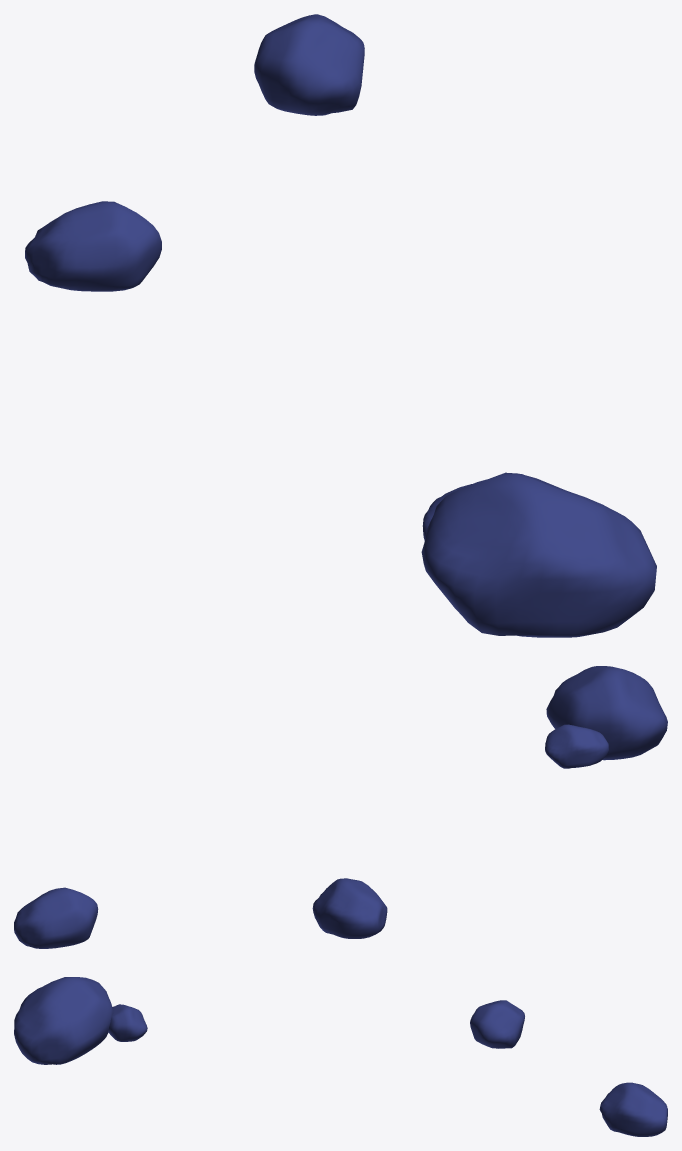
File: Rocks.fbx
3 renders of one model, top to bottom at view 1: azimuth 30°, elevation 25°; view 2: azimuth 150°, elevation 25°; view 3: azimuth 270°, elevation 25°, orthographic. The views are drawn at different scales.
Parts seen in each view (by area): view 1: rock_GEO4; view 2: rock_GEO4; view 3: rock_GEO4.
Part boxes in pixels (x1,y1,x2,y2): rock_GEO4: [25, 14, 656, 637]; rock_GEO4: [14, 666, 667, 948]; rock_GEO4: [14, 977, 667, 1136].
Bounding box in the file's own units: 25 × 6.56 × 56.59.
